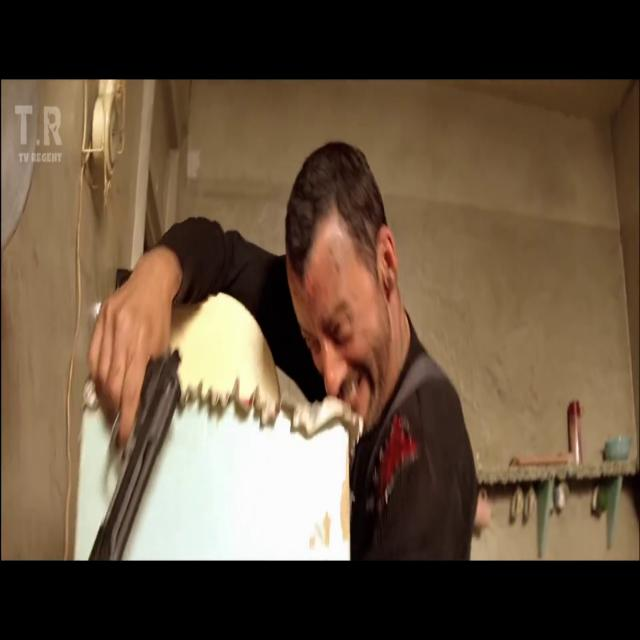handgun: (78, 313, 201, 572)
